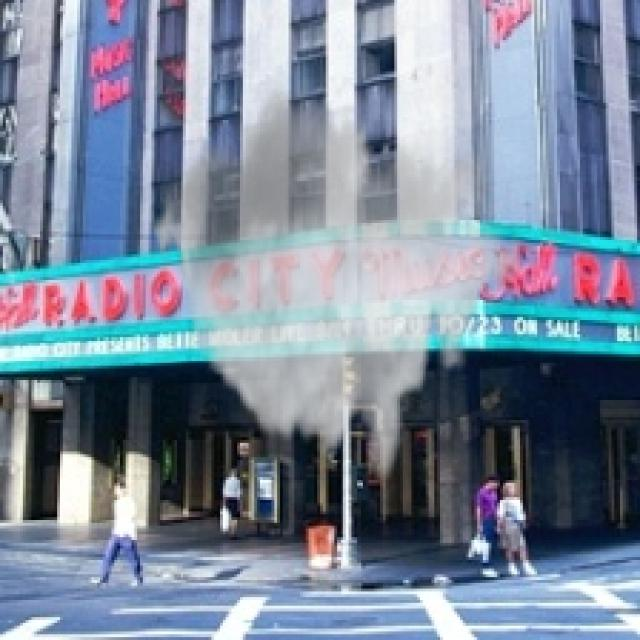smoke: (148, 74, 523, 483)
